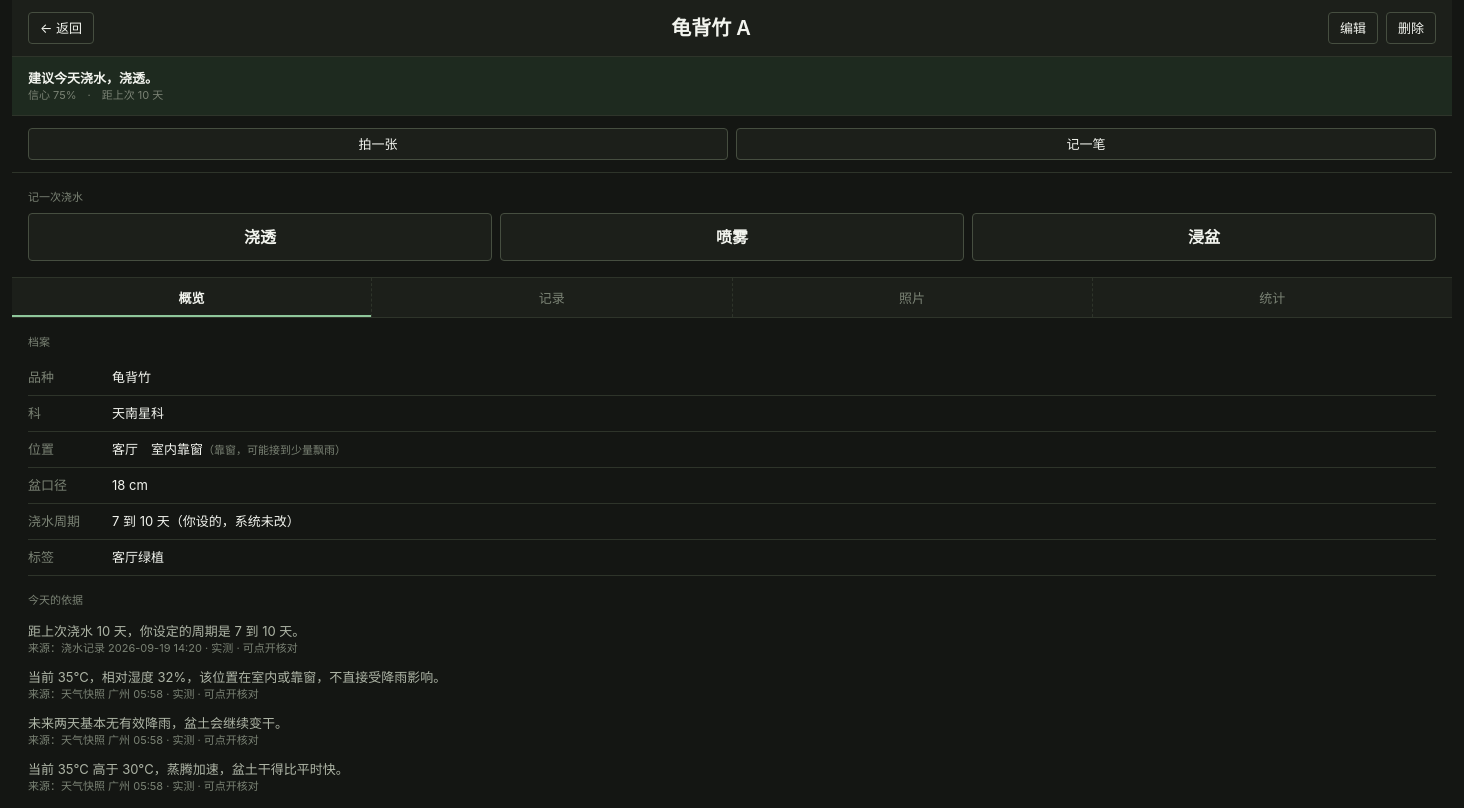
it: 统计 tab：口径可见 › 估算水量单独说明，不混进平均值
This screenshot has width=1464, height=808.
What coordinates should you click on to do the following:
click the button "统计"
I would click on:
 (1272, 298)
Its box is [1093,278,1452,317].
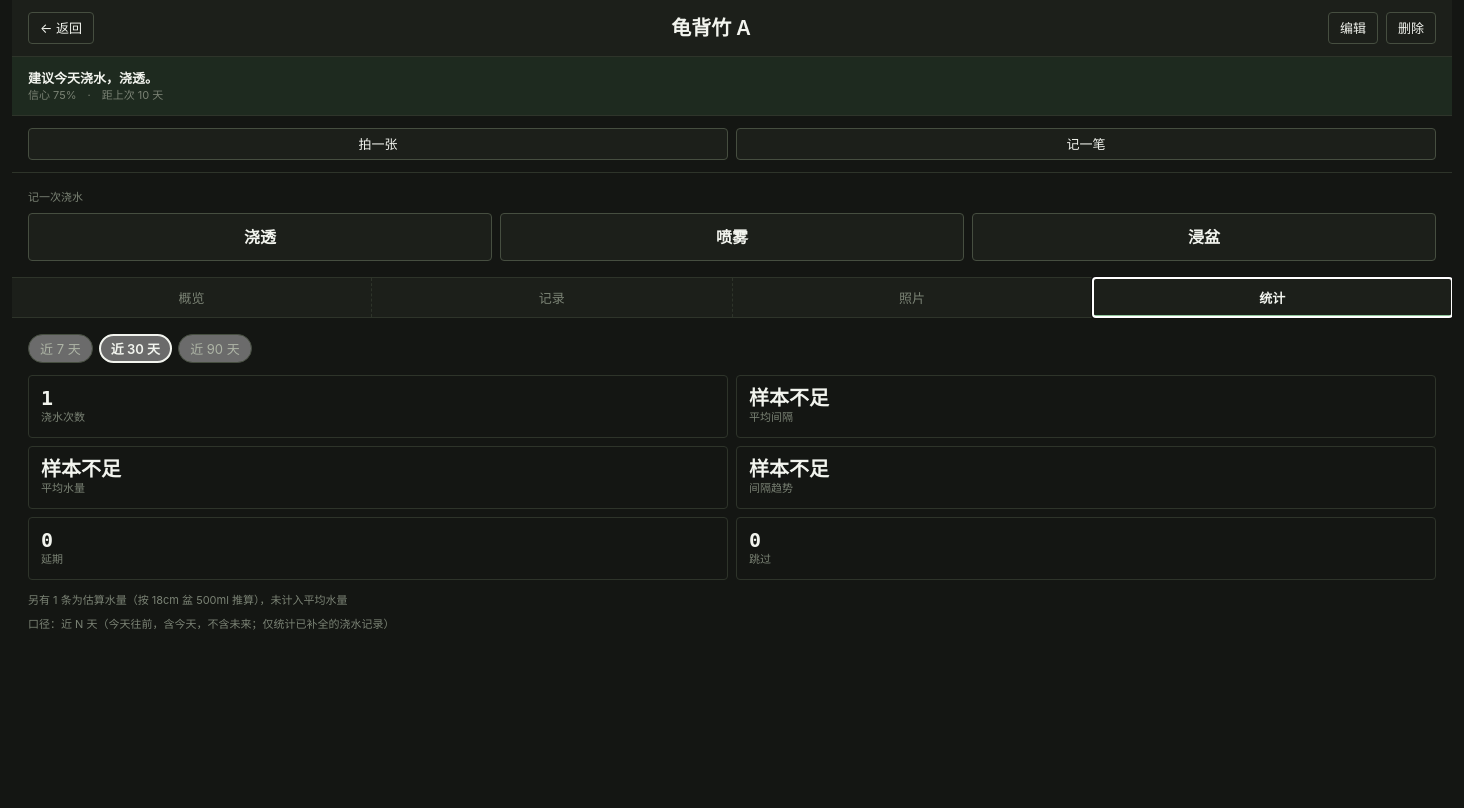
Now the text "另有 1 条为估算水量（按 18cm 盆 500ml 推算），未计入平均水量" is shown, box [28,593,348,607]
